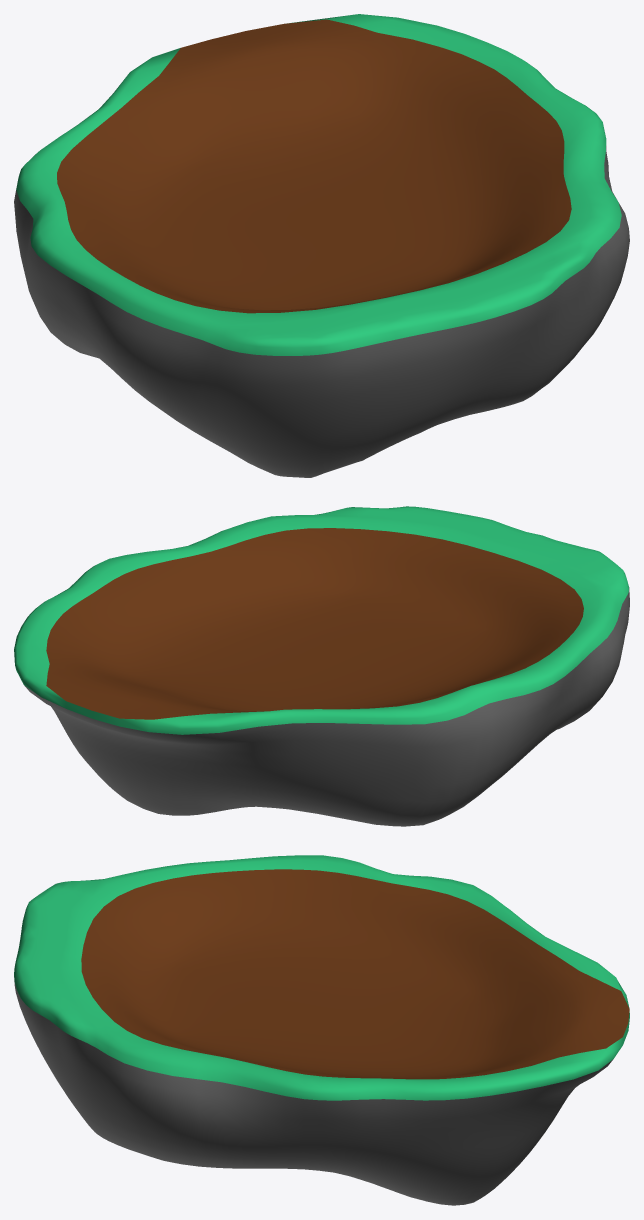
File: IslandMudArea.fbx
3 renders of one model, top to bottom at view 1: azimuth 30°, elevation 25°; view 2: azimuth 150°, elevation 25°; view 3: azimuth 270°, elevation 25°, orthographic. The views are drawn at different scales.
Visible parts, largest first — view 1: IslandMudAreaMud_Model, IslandMudAreaStone_Model; view 2: IslandMudAreaMud_Model, IslandMudAreaStone_Model; view 3: IslandMudAreaMud_Model, IslandMudAreaStone_Model.
Boxes of the visible parts, x1,y1,x2,y2 form: IslandMudAreaMud_Model: (57, 19, 571, 313); IslandMudAreaStone_Model: (14, 14, 629, 477); IslandMudAreaMud_Model: (46, 528, 583, 719); IslandMudAreaStone_Model: (14, 506, 629, 826); IslandMudAreaMud_Model: (81, 869, 629, 1079); IslandMudAreaStone_Model: (14, 855, 629, 1205).
Bounding box in the file's own units: 11469 × 4024 × 12549.
